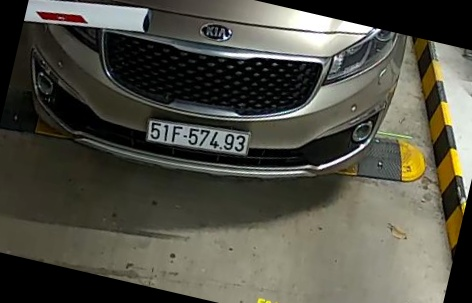plate: (142, 113, 255, 171)
